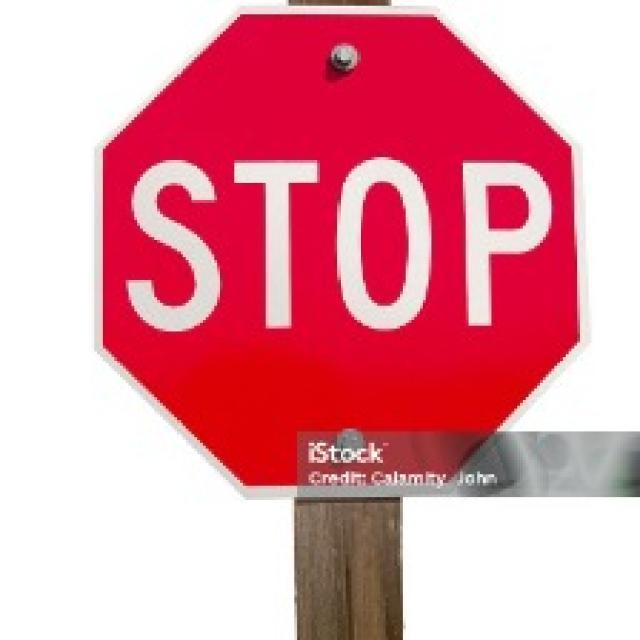stop: (93, 4, 584, 499)
